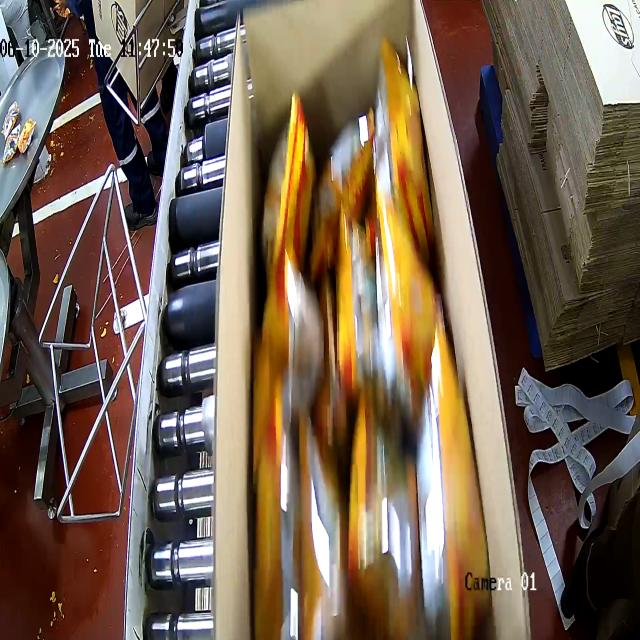FRENCH_CHEESE: (251, 47, 492, 640)
